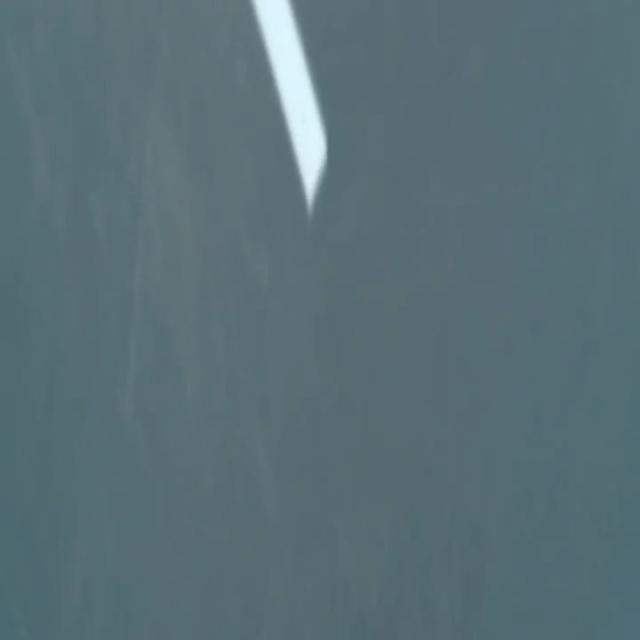center: (251, 0, 326, 216)
